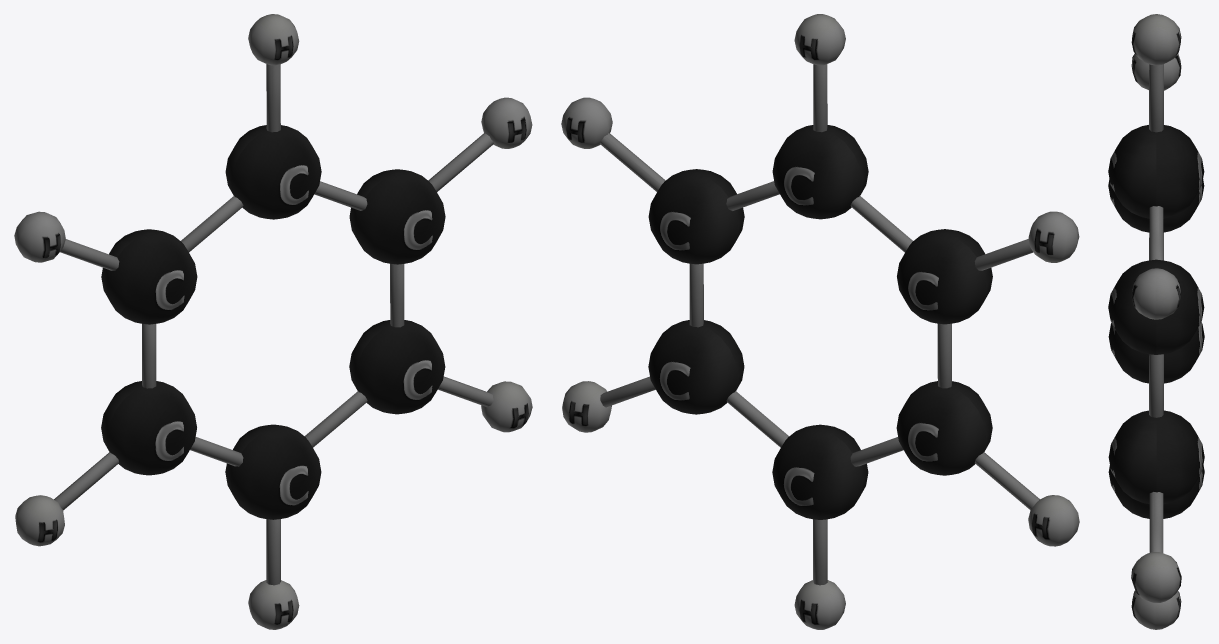
The model's file is Benzene.gltf.
3 renders of one model, left to right at view 1: azimuth 30°, elevation 25°; view 2: azimuth 150°, elevation 25°; view 3: azimuth 270°, elevation 25°, orthographic.
Parts seen in each view (by area): view 1: C_Atom_017, C_Atom_010, C_Atom_09, C_Atom_015, C_Atom_016, C_Atom_011, H_Atom_0117, H_Atom_0118, H_Atom_0115, H_Atom_0119, H_Atom_0113, H_Atom_0116 (+12 smaller); view 2: C_Atom_010, C_Atom_09, C_Atom_017, C_Atom_011, C_Atom_015, C_Atom_016, H_Atom_0115, H_Atom_0118, H_Atom_0117, H_Atom_0119, H_Atom_0113, H_Atom_0116 (+12 smaller); view 3: C_Atom_010, C_Atom_017, C_Atom_016, C_Atom_09, H_Atom_0119, H_Atom_0117, H_Atom_0116, H_Atom_0113, C_Atom_011, C_Atom_015, Single_Bond_033, Single_Bond_029 (+3 smaller).
Boxes of the visible parts, x1,y1,x2,y2 form: C_Atom_017: (225,125,321,219); C_Atom_010: (349,320,445,414); C_Atom_09: (101,381,196,475); C_Atom_015: (101,229,197,324); C_Atom_016: (349,169,445,264); C_Atom_011: (225,424,321,519); H_Atom_0117: (248,14,299,65); H_Atom_0118: (14,211,65,262); H_Atom_0115: (15,495,64,546); H_Atom_0119: (481,97,532,148); H_Atom_0113: (248,580,299,629); H_Atom_0116: (481,381,532,432); C_Atom_010: (648,320,744,414); C_Atom_09: (896,381,992,475); C_Atom_017: (772,125,868,219); C_Atom_011: (772,424,868,519); C_Atom_015: (897,229,992,324); C_Atom_016: (648,169,744,264); H_Atom_0115: (1028,495,1079,546); H_Atom_0118: (1028,211,1079,262); H_Atom_0117: (794,14,845,65); H_Atom_0119: (561,97,612,148); H_Atom_0113: (794,580,845,629); H_Atom_0116: (562,381,611,432); C_Atom_010: (1108,410,1204,504); C_Atom_017: (1108,125,1204,218); C_Atom_016: (1108,259,1204,354); C_Atom_09: (1108,322,1204,383); H_Atom_0119: (1131,268,1181,319); H_Atom_0117: (1131,14,1181,65); H_Atom_0116: (1131,552,1181,602); H_Atom_0113: (1131,590,1181,629); C_Atom_011: (1108,465,1204,518); C_Atom_015: (1108,179,1204,232); Single_Bond_033: (1149,64,1163,132); Single_Bond_029: (1149,354,1163,417).
Size of the model in its own units: 2.74 by 3.13 by 0.4486.
1 material, 1 textured.
